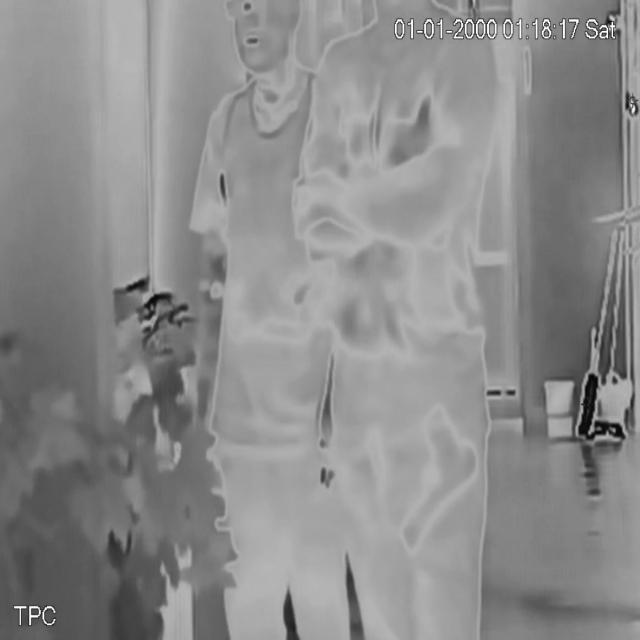Weapon: (386, 402, 484, 550)
